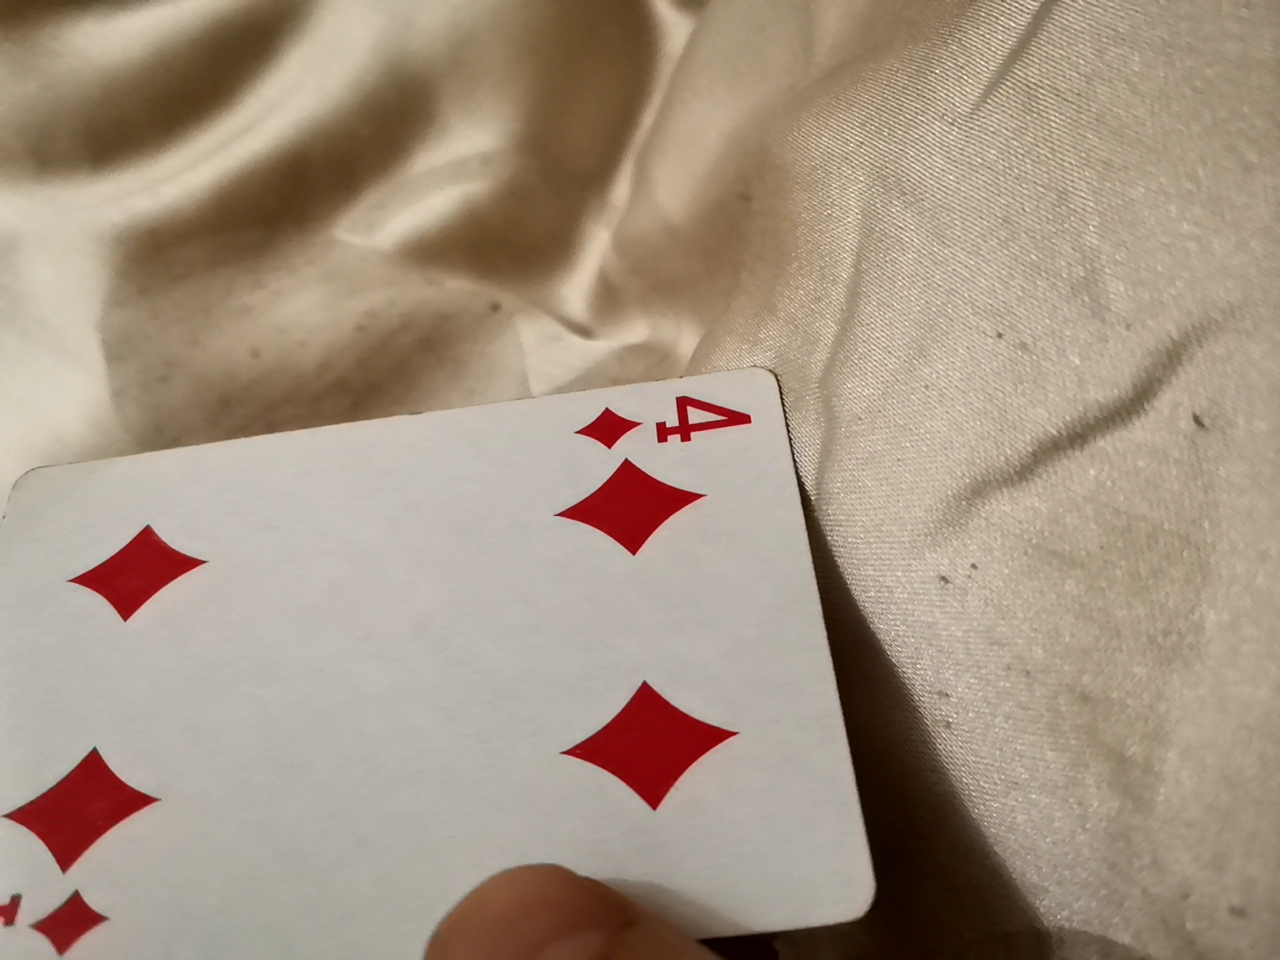fk 4: (8, 353, 871, 953)
